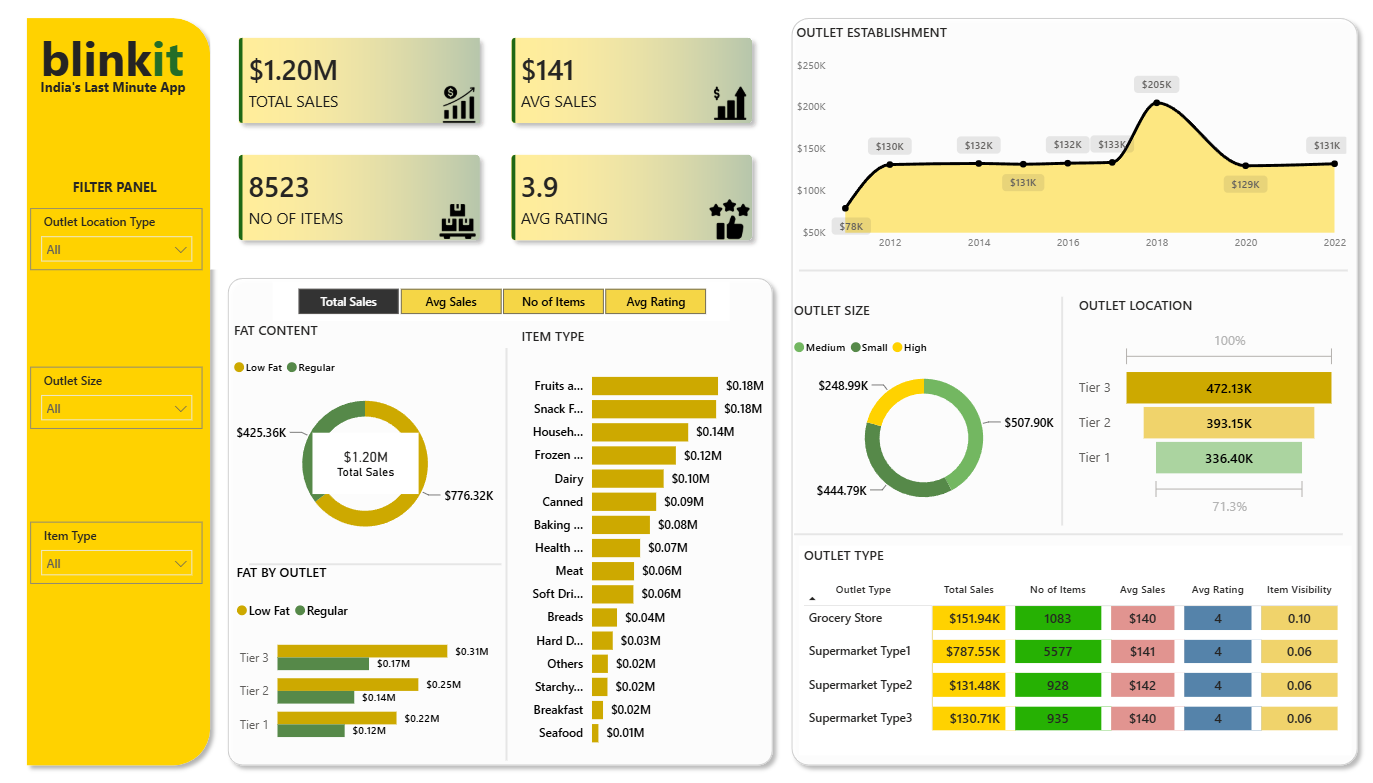

Layout of this report page (visuals, bound fields, positions):
{"tool":"powerbi","page":{"name":"Page 1","canvas":[1400,800],"ordinal":0},"visuals":[{"type":"shape","box":[18.6,11.2,204.8,778.3],"z":0},{"type":"textbox","box":[29.3,22.9,171.7,78.9],"z":1000},{"type":"textbox","box":[31,76.9,171.2,33.5],"z":2000},{"type":"cardVisual","fields":{"Data":["BlinkIT Grocery Data.Total Sales","BlinkIT Grocery Data.Avg Sales","BlinkIT Grocery Data.No of Items","BlinkIT Grocery Data.Avg Rating"]},"box":[214.9,11.4,581.2,264.5],"z":3000},{"type":"shape","box":[223.8,276,572.3,513.8],"z":4000},{"type":"donutChart","title":"FAT CONTENT","fields":{"Y":["BlinkIT Grocery Data.Total Sales"],"Category":["BlinkIT Grocery Data.Item Fat Content"]},"box":[234,328.1,277.3,236.6],"z":5000},{"type":"slicer","fields":{"Values":["Metrics.Metrics"]},"box":[278.5,288.7,465,40],"z":6000},{"type":"cardVisual","fields":{"Data":["BlinkIT Grocery Data.Total Sales"]},"box":[314.1,437.5,118.3,72.5],"z":7000},{"type":"clusteredBarChart","title":"FAT BY OUTLET","fields":{"Y":["BlinkIT Grocery Data.Total Sales"],"Category":["BlinkIT Grocery Data.Outlet Location Type"],"Series":["BlinkIT Grocery Data.Item Fat Content"]},"box":[236.6,574.9,277.3,197.1],"z":8000},{"type":"shape","box":[506.2,356.1,20.3,419.7],"z":9000},{"type":"barChart","title":"ITEM TYPE","fields":{"Y":["BlinkIT Grocery Data.Total Sales"],"Category":["BlinkIT Grocery Data.Item Type"]},"box":[526.5,334.5,256.9,437.5],"z":10000},{"type":"shape","box":[797.4,11.4,593.9,778.3],"z":11000},{"type":"lineChart","title":"OUTLET ESTABLISHMENT","fields":{"Y":["BlinkIT Grocery Data.Total Sales"],"Category":["BlinkIT Grocery Data.Outlet Establishment Year"]},"box":[806.3,25.4,569.8,240.4],"z":12000},{"type":"shape","box":[814,265.8,558.3,22.9],"z":13000},{"type":"donutChart","title":"OUTLET SIZE","fields":{"Y":["BlinkIT Grocery Data.Total Sales"],"Category":["BlinkIT Grocery Data.Outlet Size"]},"box":[803.8,307.8,275,225],"z":14000},{"type":"shape","box":[1074.7,304,14,232.7],"z":15000},{"type":"funnel","title":"OUTLET LOCATION","fields":{"Y":["Sum(BlinkIT Grocery Data.Sales)"],"Category":["BlinkIT Grocery Data.Outlet Location Type"]},"box":[1093.8,302.7,272.2,230.2],"z":16000},{"type":"shape","box":[254.2,567.1,256.9,17.8],"z":17000},{"type":"shape","box":[808.9,534.2,558.3,22.9],"z":18000},{"type":"pivotTable","title":"OUTLET TYPE","fields":{"Rows":["BlinkIT Grocery Data.Outlet Type"],"Values":["BlinkIT Grocery Data.Total Sales","BlinkIT Grocery Data.No of Items","BlinkIT Grocery Data.Avg Sales","BlinkIT Grocery Data.Avg Rating","Avg(BlinkIT Grocery Data.Item Visibility)"]},"box":[814,557.1,562.1,213.7],"z":19000},{"type":"slicer","fields":{"Values":["BlinkIT Grocery Data.Outlet Location Type"]},"box":[31.8,213.4,175.5,63.6],"z":20000},{"type":"slicer","fields":{"Values":["BlinkIT Grocery Data.Outlet Size"]},"box":[31.8,374.7,175.5,63.6],"z":21000},{"type":"slicer","fields":{"Values":["BlinkIT Grocery Data.Item Type"]},"box":[31.8,532.3,175.5,63.6],"z":22000},{"type":"textbox","box":[69.5,178.7,109.2,34.7],"z":23000},{"type":"image","box":[442.9,89.3,50.9,38.5],"z":24000},{"type":"image","box":[713.4,89.3,60.8,36],"z":25000},{"type":"image","box":[442.9,208.4,48.4,37.2],"z":26000},{"type":"image","box":[717.1,204.7,52.1,40.9],"z":27000}]}

Visuals, with their boxes in screenshot pixels (x1, y1, x2, y2), scaled from the page's 1400x800 canvas onto the 1373x783 screenshot:
shape: 18/11/219/773
textbox: 29/22/197/100
textbox: 30/75/198/108
cardVisual - BlinkIT Grocery Data.Total Sales x BlinkIT Grocery Data.Avg Sales: 211/11/781/270
shape: 219/270/781/773
"FAT CONTENT" donutChart: 229/321/501/553
slicer - Metrics.Metrics: 273/283/729/322
cardVisual - BlinkIT Grocery Data.Total Sales: 308/428/424/499
"FAT BY OUTLET" clusteredBarChart: 232/563/504/756
shape: 496/349/516/759
"ITEM TYPE" barChart: 516/327/768/756
shape: 782/11/1364/773
"OUTLET ESTABLISHMENT" lineChart: 791/25/1350/260
shape: 798/260/1346/283
"OUTLET SIZE" donutChart: 788/301/1058/521
shape: 1054/298/1068/525
"OUTLET LOCATION" funnel: 1073/296/1340/522
shape: 249/555/501/572
shape: 793/523/1341/545
"OUTLET TYPE" pivotTable: 798/545/1350/754
slicer - BlinkIT Grocery Data.Outlet Location Type: 31/209/203/271
slicer - BlinkIT Grocery Data.Outlet Size: 31/367/203/429
slicer - BlinkIT Grocery Data.Item Type: 31/521/203/583
textbox: 68/175/175/209
image: 434/87/484/125
image: 700/87/759/123
image: 434/204/482/240
image: 703/200/754/240
